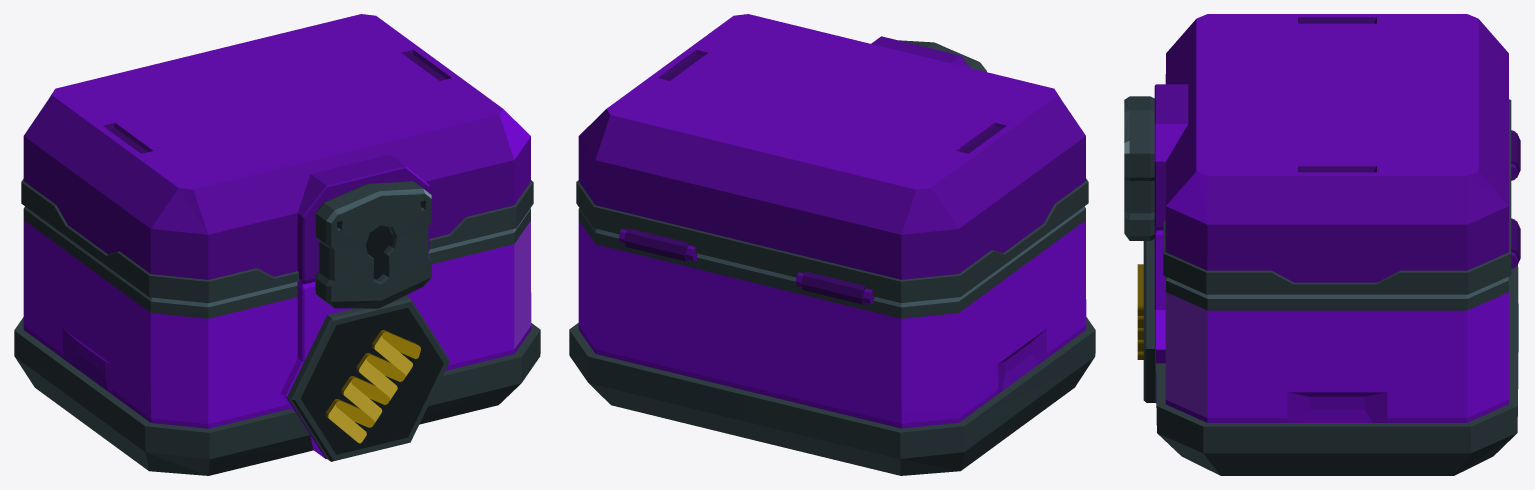
Rendered from BOX_MATERAL_G2_01.fbx.
3 views of the same model, side by side, from view 1: azimuth 30°, elevation 25°; view 2: azimuth 150°, elevation 25°; view 3: azimuth 270°, elevation 25° (orthographic). The views are drawn at different scales.
Visible parts, largest first — view 1: Object003, BOX_MATERAL_G2_01, Object004; view 2: Object003, BOX_MATERAL_G2_01; view 3: Object003, BOX_MATERAL_G2_01, Object004.
Part boxes in pixels (x1=…): Object003: x1=21, y1=14, x2=533, y2=303; BOX_MATERAL_G2_01: x1=14, y1=206, x2=540, y2=475; Object004: x1=315, y1=181, x2=431, y2=308; Object003: x1=576, y1=14, x2=1088, y2=304; BOX_MATERAL_G2_01: x1=569, y1=206, x2=1095, y2=475; Object003: x1=1154, y1=14, x2=1520, y2=294; BOX_MATERAL_G2_01: x1=1137, y1=228, x2=1518, y2=475; Object004: x1=1124, y1=96, x2=1154, y2=240.
Size of the model in its own units: 187 by 128 by 158.
1 material, 1 textured.
